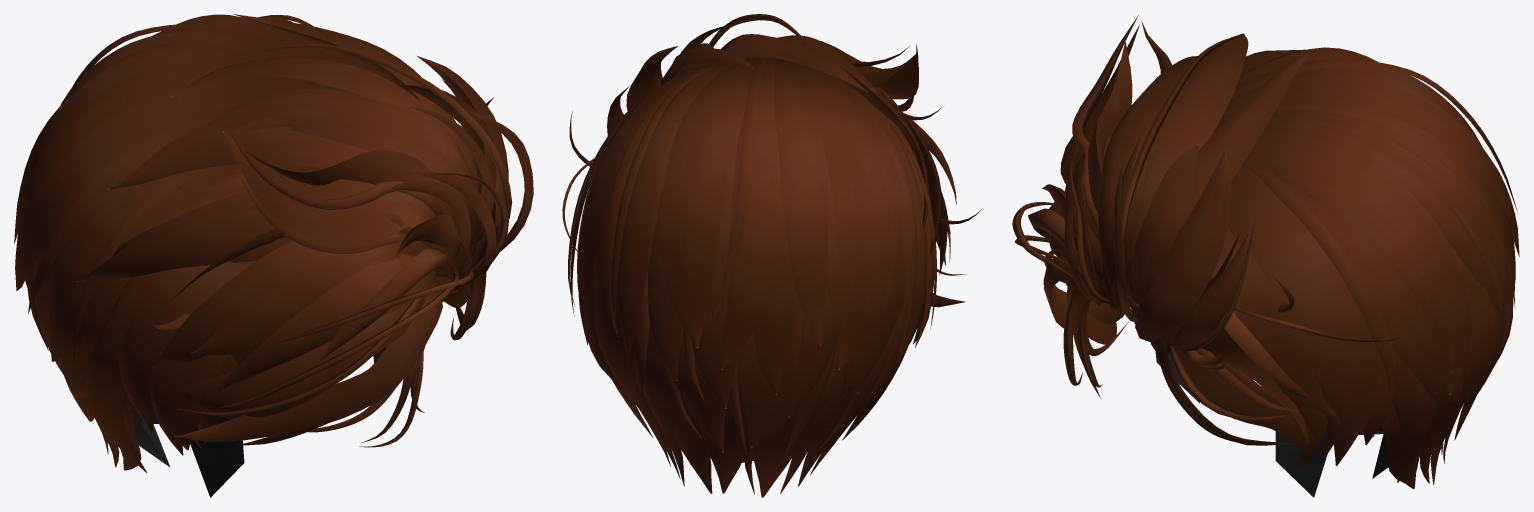
The model's file is Ondulado_1.glb.
3 views of the same model, side by side, from view 1: azimuth 30°, elevation 25°; view 2: azimuth 150°, elevation 25°; view 3: azimuth 270°, elevation 25° (orthographic). The views are drawn at different scales.
Parts seen in each view (by area): view 1: Body; view 2: Body; view 3: Body.
Boxes of the visible parts, x1,y1,x2,y2 form: Body: (14,14,533,497); Body: (562,14,982,497); Body: (1012,15,1519,497).
Bounding box in the file's own units: 0.0362 × 0.0372 × 0.0392.
Materials: 1 (1 with a texture image).
